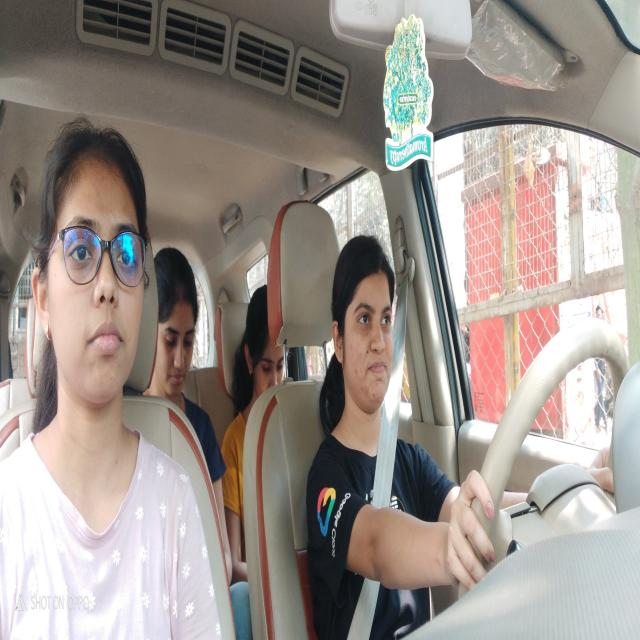person: (30, 109, 152, 447), (329, 234, 408, 432), (152, 238, 201, 402), (241, 281, 289, 415)
